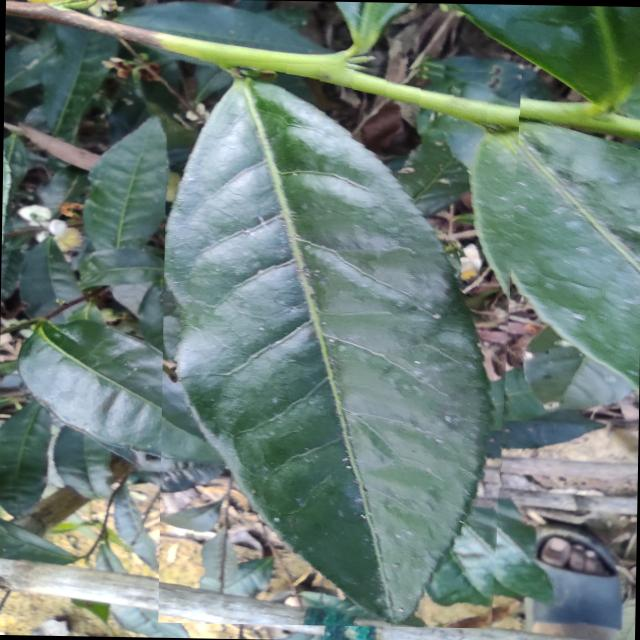Category D(7+ days, Not for Tea): (158, 57, 522, 628)
